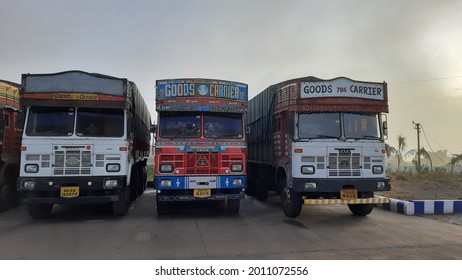truck: (247, 76, 391, 218), (17, 70, 150, 219), (149, 77, 250, 216)
